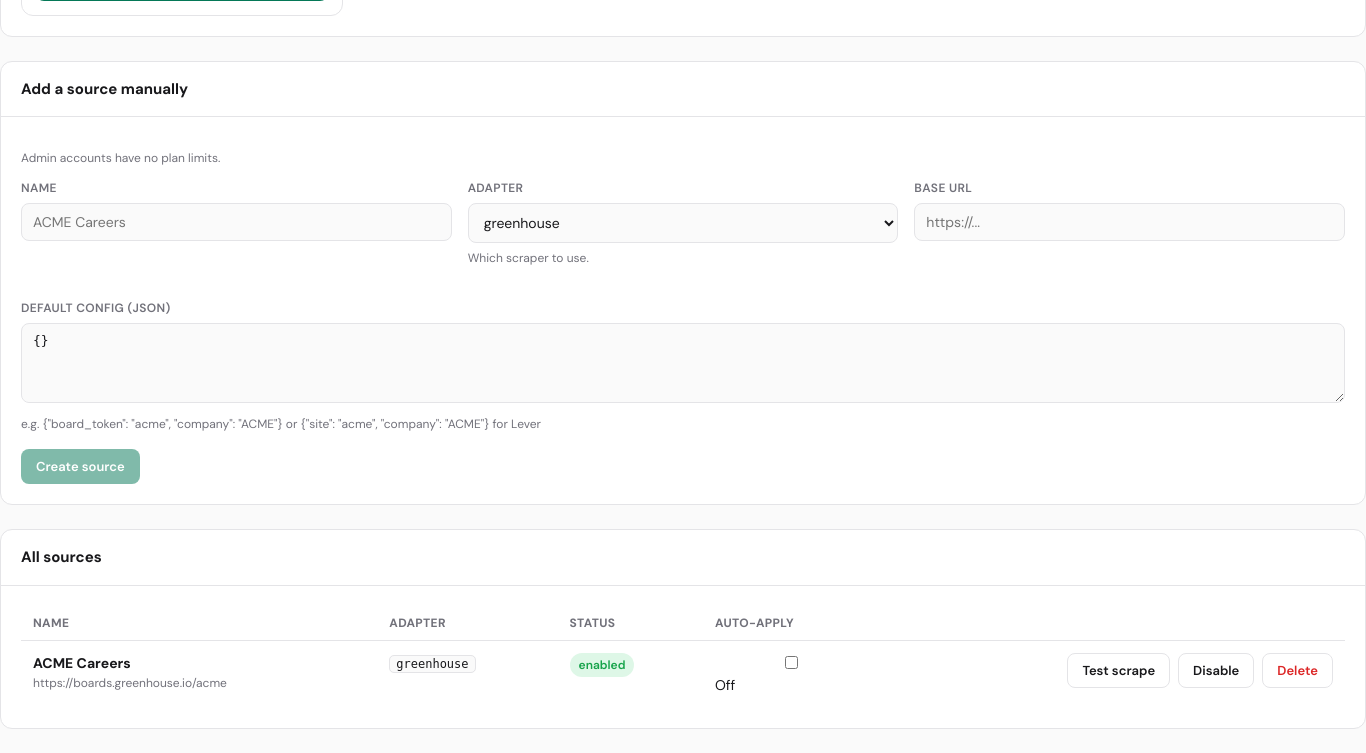
SourcesPage › runs a test scrape and shows results
This screenshot has width=1366, height=753.
(page scrolled)
Expected: the text "ACME Careers" is shown, x1=33 y1=654 x2=131 y2=672
Click the button "Test scrape": x=1119, y=670 x1=1068 y1=653 x2=1170 y2=688
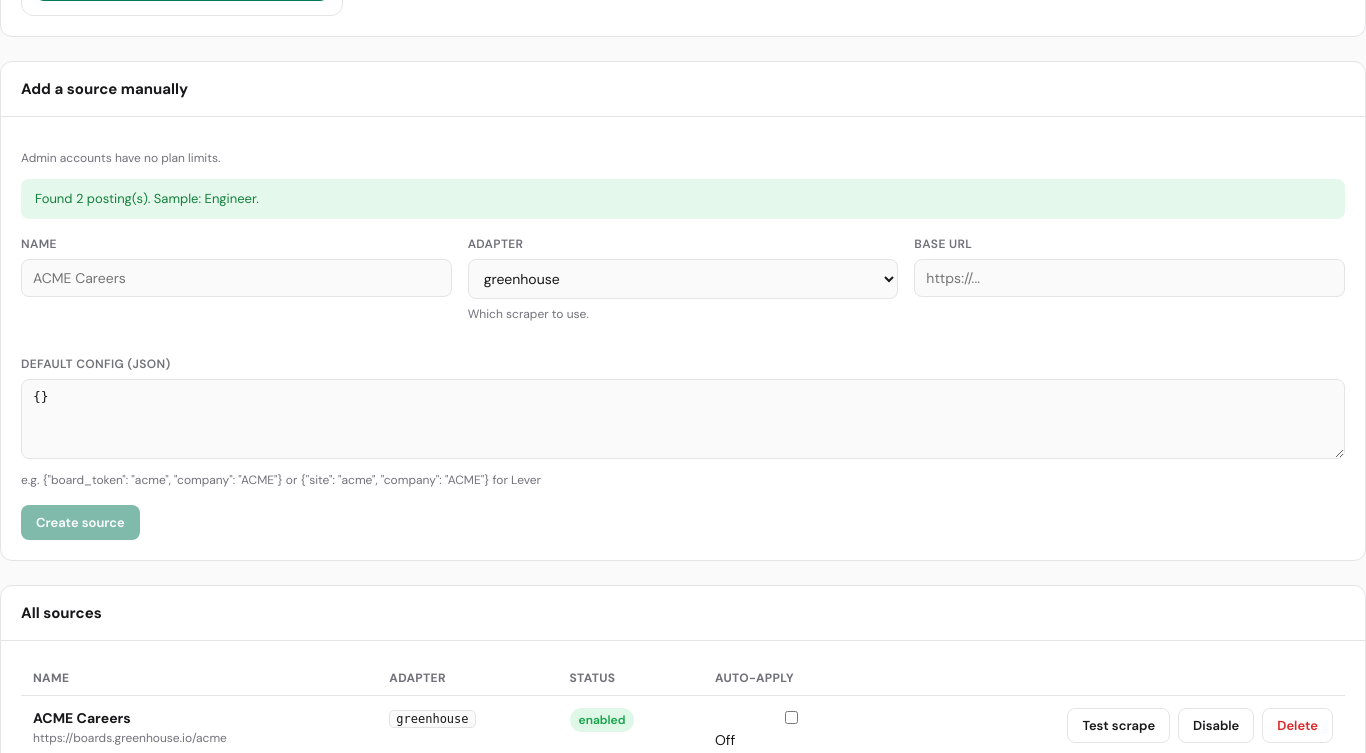
Now the text "Found 2 posting(s). Sample: Engineer." is shown, box x1=21 y1=179 x2=1345 y2=219
